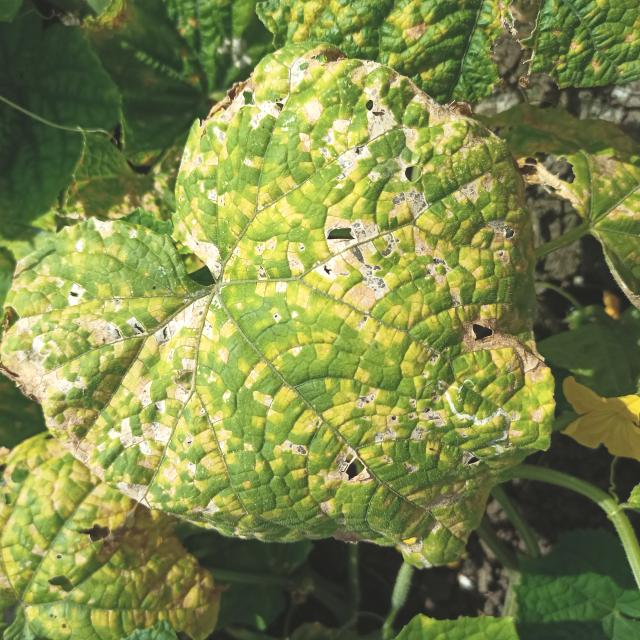disease_cucumber: (3, 63, 554, 566), (0, 437, 218, 640), (281, 0, 453, 70)
